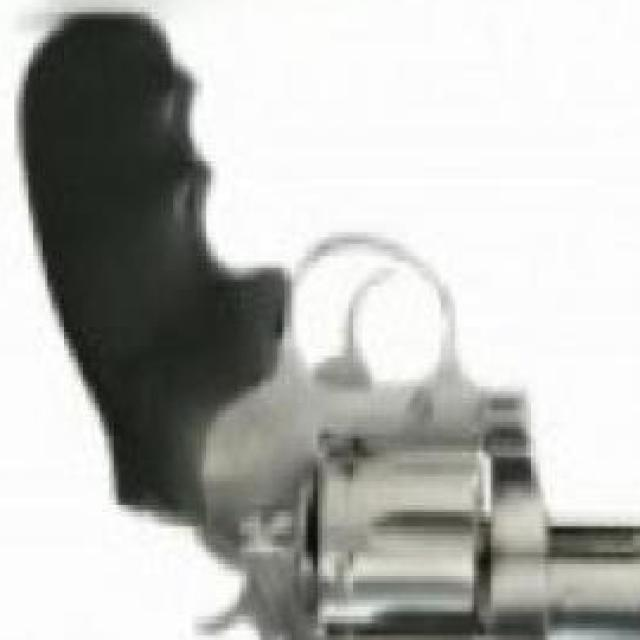pistol: (14, 9, 640, 640)
